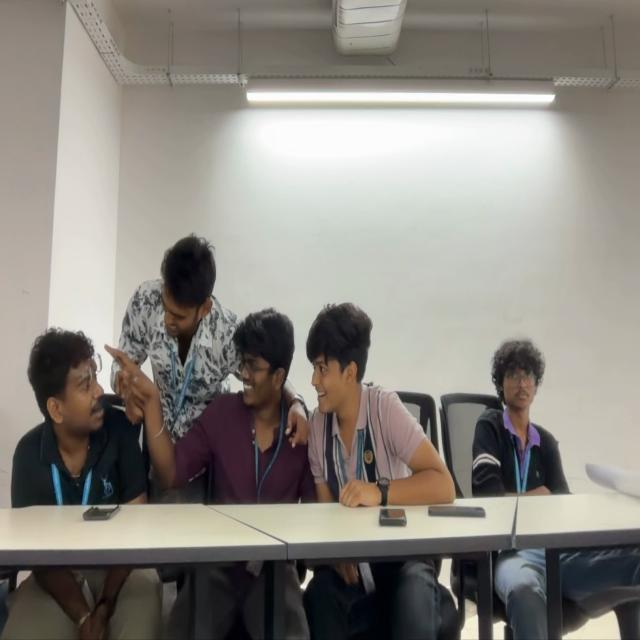Isolated: (476, 344, 566, 496)
socializing: (12, 237, 455, 504)
